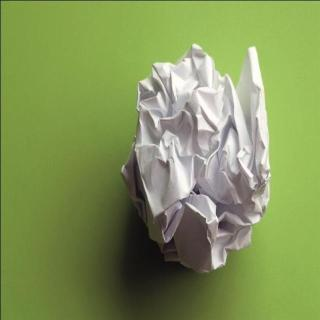Anorganik: (115, 39, 272, 277)
